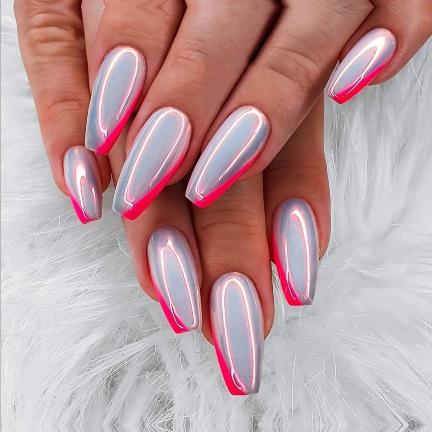Nail: (113, 107, 192, 220), (186, 106, 270, 208), (211, 273, 263, 395), (147, 226, 202, 333), (327, 28, 397, 103), (272, 199, 319, 306), (63, 145, 102, 224)
